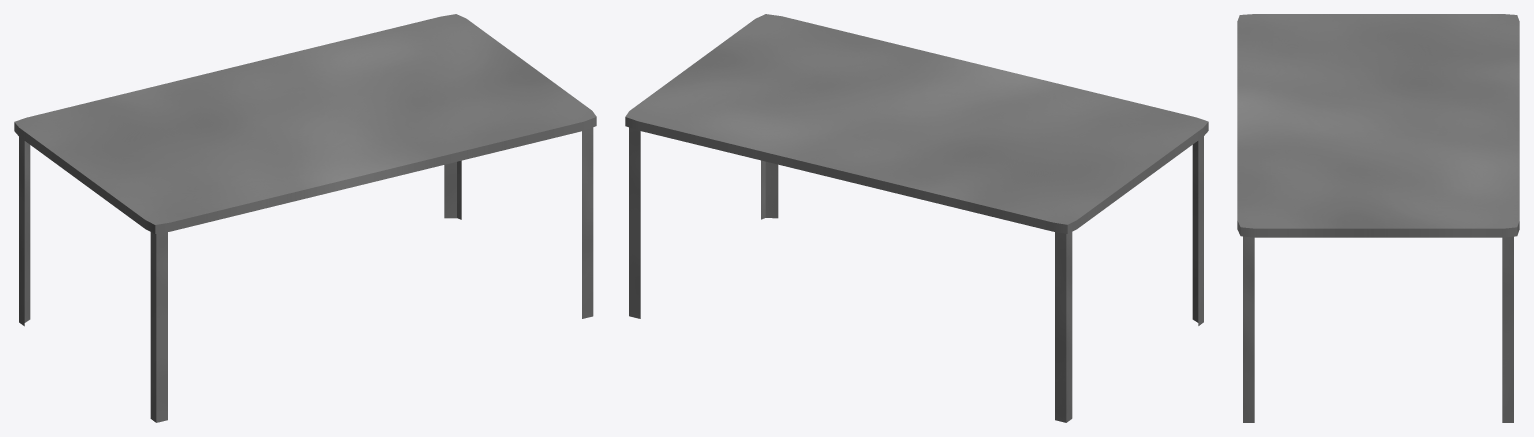
The model's file is ShelfPart.fbx.
The picture shows the model from 3 angles, left to right: view 1: azimuth 30°, elevation 25°; view 2: azimuth 150°, elevation 25°; view 3: azimuth 270°, elevation 25°; orthographic projection.
Visible parts, largest first — view 1: ShelvPart; view 2: ShelvPart; view 3: ShelvPart.
Boxes of the visible parts, bbox=[...] form: ShelvPart: bbox=[14, 14, 596, 422]; ShelvPart: bbox=[625, 14, 1208, 422]; ShelvPart: bbox=[1237, 14, 1519, 422].
Size of the model in its own units: 5.12 by 2.19 by 2.84.
